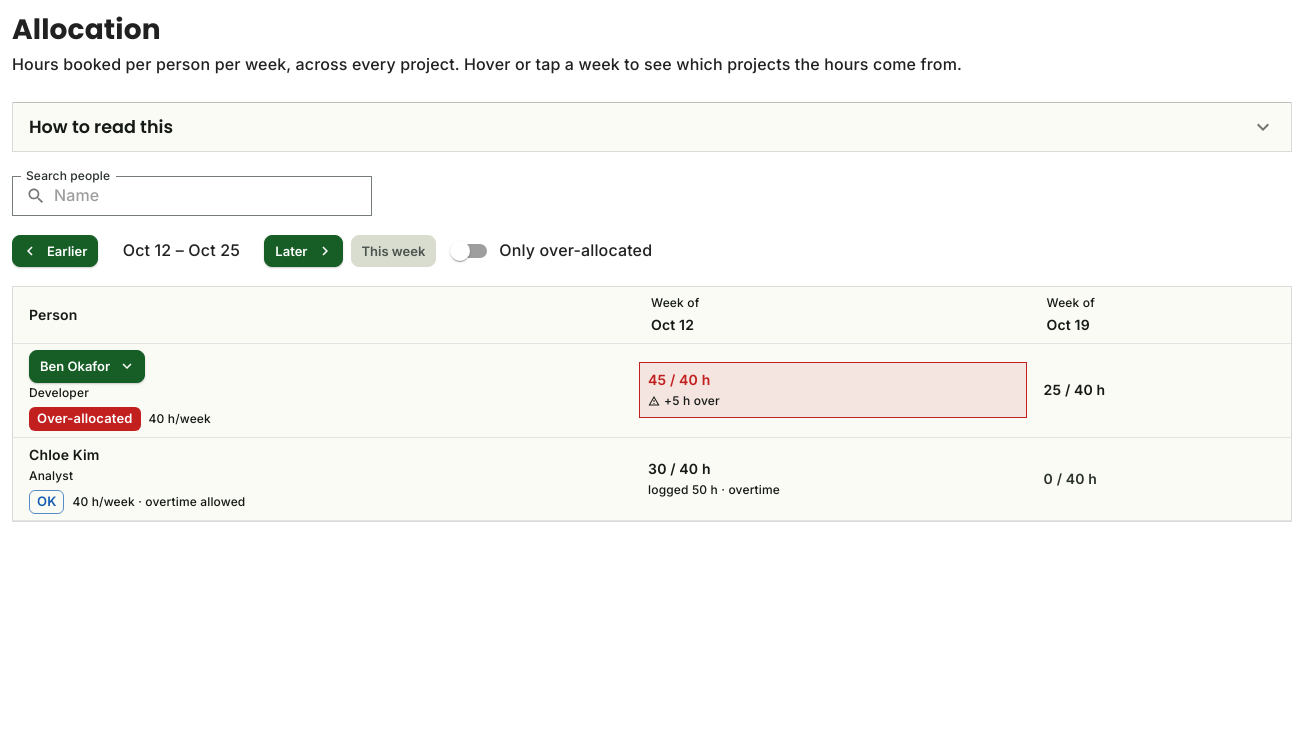
Test: AllocationPage › folds "How to read this" away by default, and opens it to plain words
Expected: the row "Ben Okafor" is shown, [13,343,1291,437]
Expected: the text "each row is a person and each column is a week" is not shown
Click the button "How to read this" at (101, 127), box [13,103,1291,151]
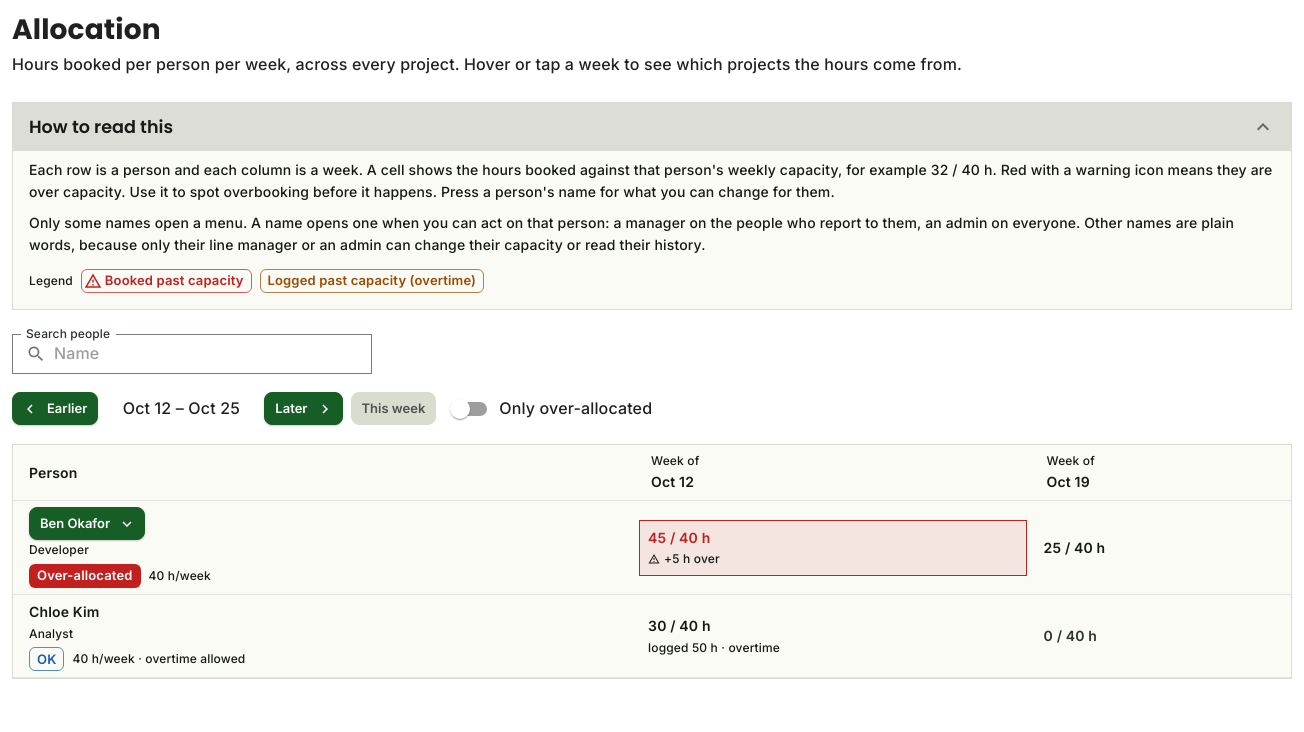
Now the button "How to read this" is expanded, box [13,103,1291,151]
Now the text "spot overbooking before it happens" is shown, box [29,161,1272,200]
